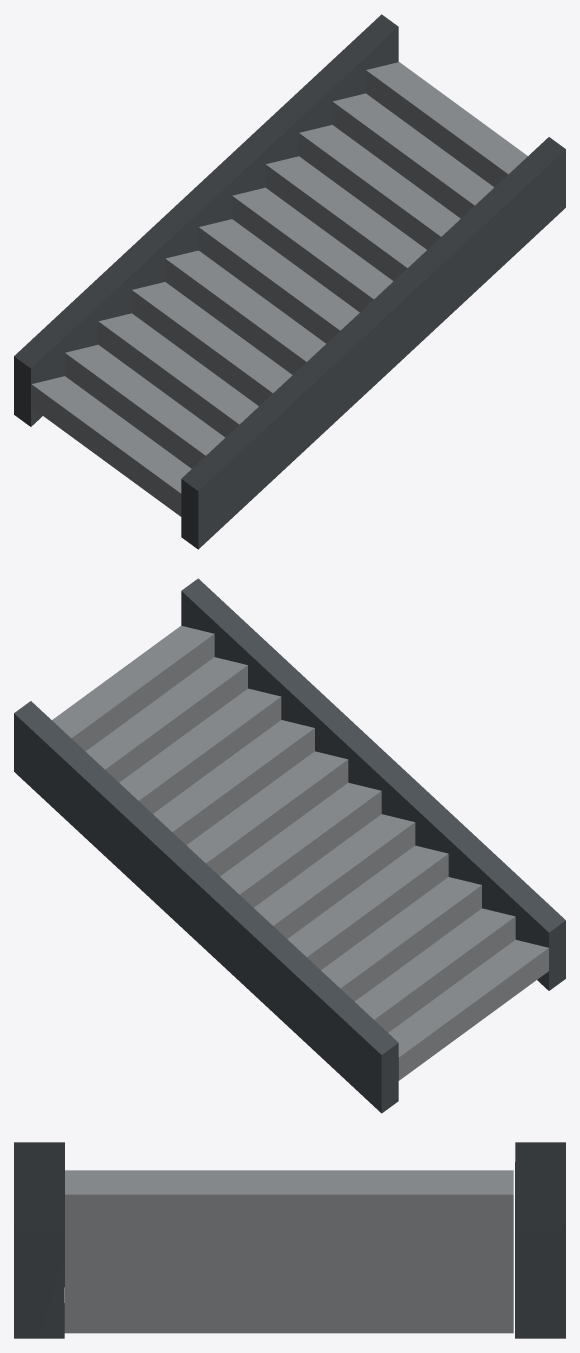
Rendered from Stair.FBX.
The picture shows the model from 3 angles, top to bottom: view 1: azimuth 30°, elevation 25°; view 2: azimuth 150°, elevation 25°; view 3: azimuth 270°, elevation 25°; orthographic projection. The views are drawn at different scales.
Visible parts, largest first — view 1: Box013; view 2: Box013; view 3: Box013.
Boxes of the visible parts, left/top/right/bottom form: Box013: left=14, top=14, right=565, bottom=549; Box013: left=14, top=578, right=565, bottom=1113; Box013: left=14, top=1142, right=565, bottom=1338.
Size of the model in its own units: 229 by 185 by 199.
